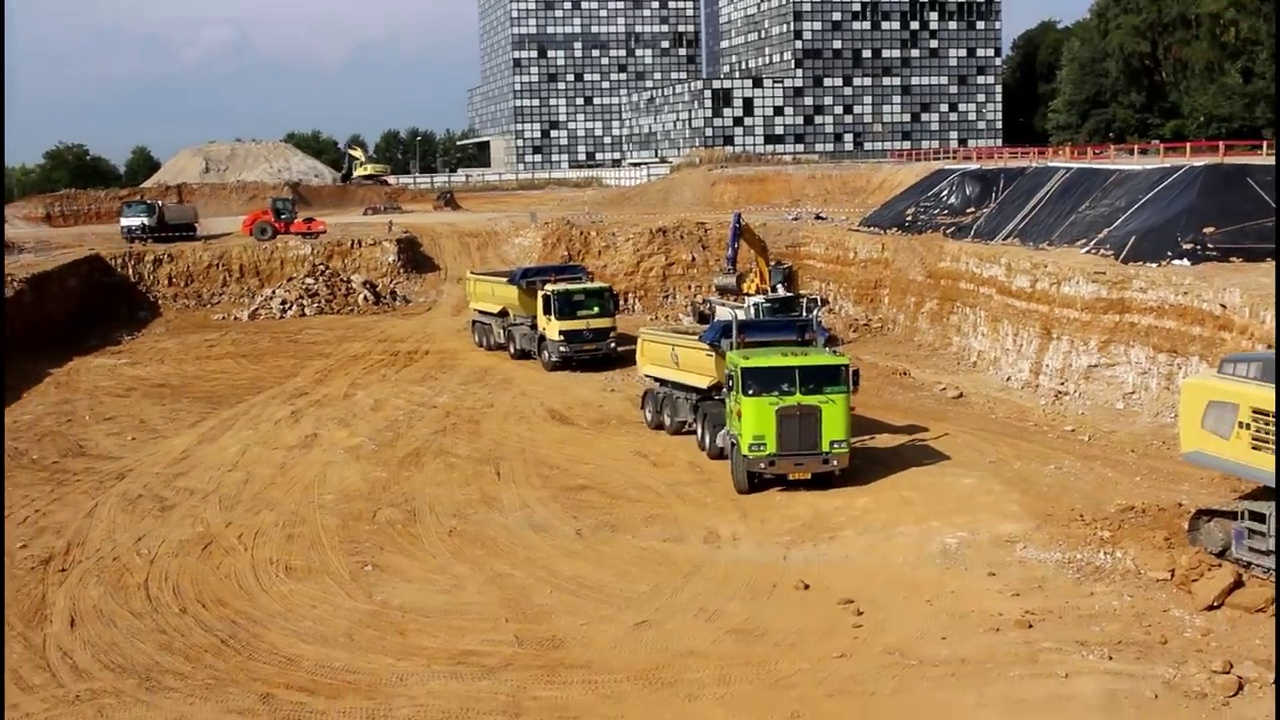compactor: (240, 196, 329, 241)
excavator: (1174, 343, 1280, 579), (709, 209, 810, 334), (337, 143, 395, 188)
truck: (634, 295, 864, 495), (465, 258, 623, 376), (705, 288, 830, 361), (116, 195, 203, 243)
